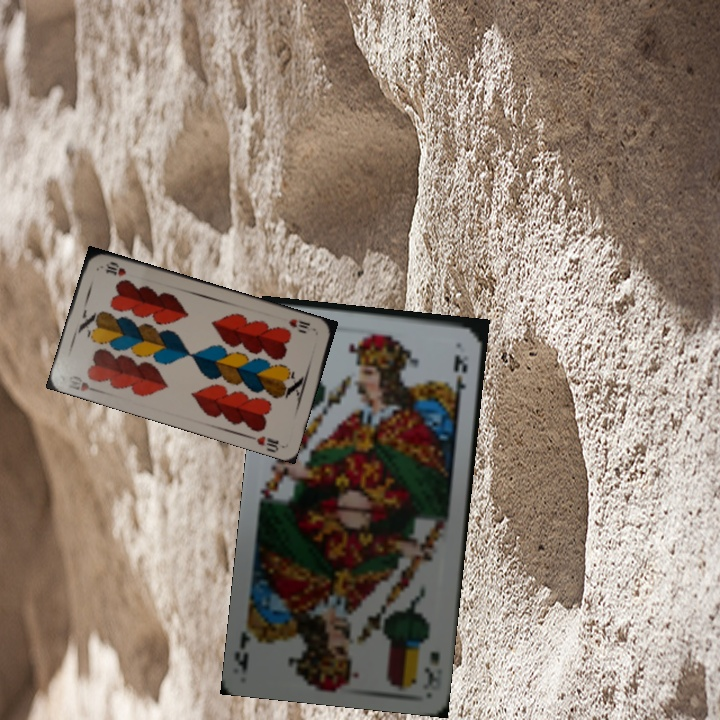EK: (420, 647, 442, 689)
H10: (65, 371, 103, 395), (284, 315, 313, 331)
